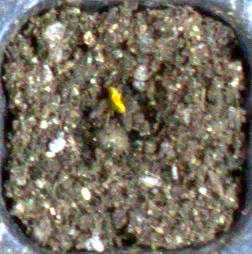pepper seed: (43, 28, 170, 142)
